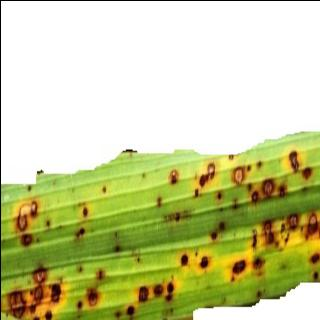bercak-Cokelat: (0, 131, 320, 320)
